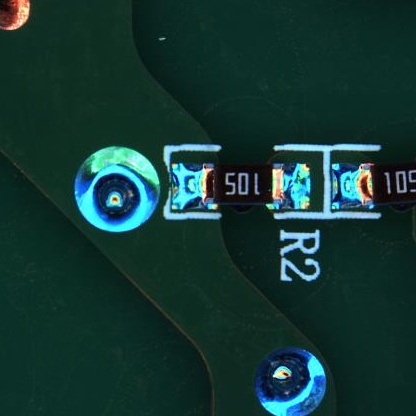spot: (75, 144, 160, 233), (253, 347, 327, 416)
